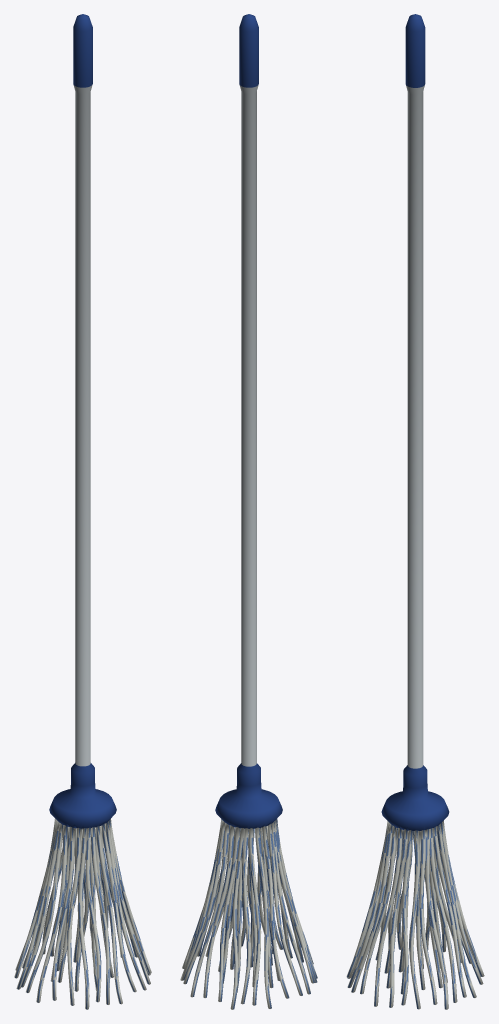
3 views of the same model, side by side, from view 1: azimuth 90°, elevation 25°; view 2: azimuth 150°, elevation 25°; view 3: azimuth 270°, elevation 25° (orthographic).
Parts seen in each view (by area): view 1: NEW306_StringMop_LOD2; view 2: NEW306_StringMop_LOD2; view 3: NEW306_StringMop_LOD2.
Boxes of the visible parts, x1,y1,x2,y2 form: NEW306_StringMop_LOD2: (14,14,151,1009); NEW306_StringMop_LOD2: (180,14,317,1009); NEW306_StringMop_LOD2: (346,14,484,1009).
Bounding box in the file's own units: 0.1954 × 1.52 × 0.1954.
